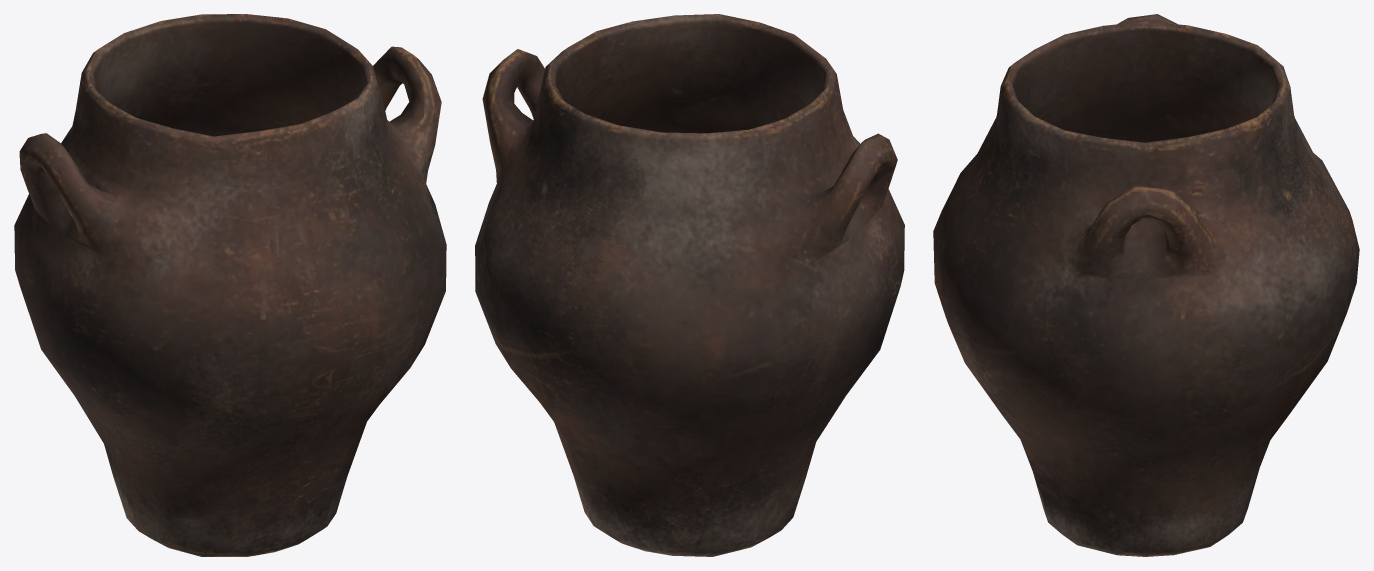
Rendered from SM_Ceramica01.glb.
3 renders of one model, left to right at view 1: azimuth 30°, elevation 25°; view 2: azimuth 150°, elevation 25°; view 3: azimuth 270°, elevation 25°, orthographic.
Parts seen in each view (by area): view 1: SM_Ceramica01; view 2: SM_Ceramica01; view 3: SM_Ceramica01.
Boxes of the visible parts, left/top/right/bottom form: SM_Ceramica01: left=14, top=14, right=446, bottom=556; SM_Ceramica01: left=475, top=14, right=904, bottom=556; SM_Ceramica01: left=933, top=14, right=1359, bottom=556.
Size of the model in its own units: 0.4707 by 0.5204 by 0.4567.
Materials: 1 (1 with a texture image).
